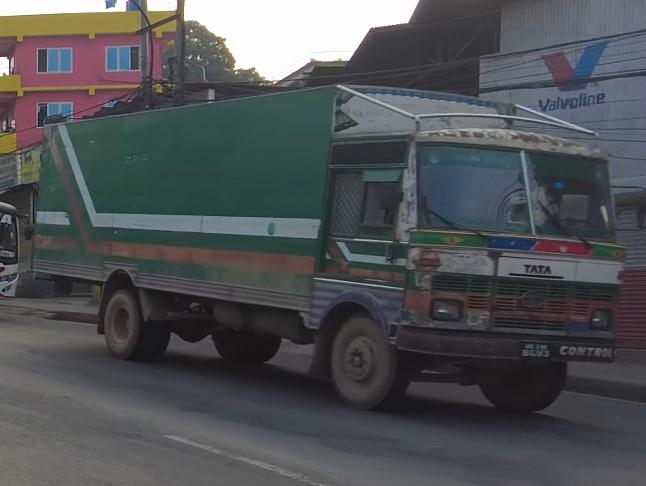bus: (0, 198, 20, 311)
truck: (28, 82, 627, 413)
